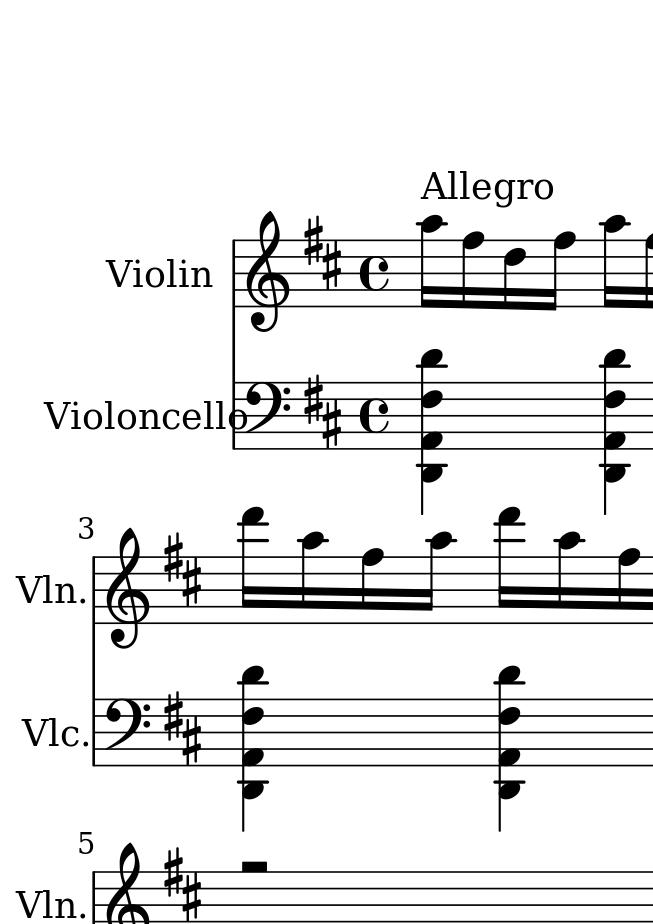16_10: (420, 530, 453, 626), (555, 529, 584, 626), (602, 216, 628, 309), (299, 532, 324, 626), (419, 217, 444, 308)
16_13: (239, 505, 267, 625), (495, 506, 523, 626)
16_6: (501, 237, 527, 312)
16_8: (542, 231, 576, 312), (616, 545, 641, 628), (460, 231, 485, 310), (359, 548, 384, 627)
3: (78, 514, 95, 541)
4_4th: (493, 662, 527, 830), (598, 346, 633, 507), (236, 662, 269, 831), (416, 345, 448, 511)
5: (78, 827, 95, 857)
D_S: (161, 845, 206, 923), (163, 687, 203, 765), (303, 214, 343, 291), (302, 374, 342, 450), (164, 530, 201, 607)
Fclef: (103, 697, 151, 767), (243, 381, 291, 449)
Gclef: (242, 210, 291, 331), (103, 528, 151, 651)
Rests2: (238, 857, 270, 877)
Single_barline: (228, 382, 246, 450), (88, 699, 102, 766), (228, 240, 241, 307), (88, 556, 100, 623), (88, 871, 100, 923)
TimeSig: (355, 238, 389, 308), (358, 382, 392, 452), (360, 240, 391, 308), (359, 382, 389, 450)
Vlc: (21, 713, 78, 752)
Vln: (109, 254, 211, 291), (18, 573, 78, 610), (21, 886, 76, 923)
